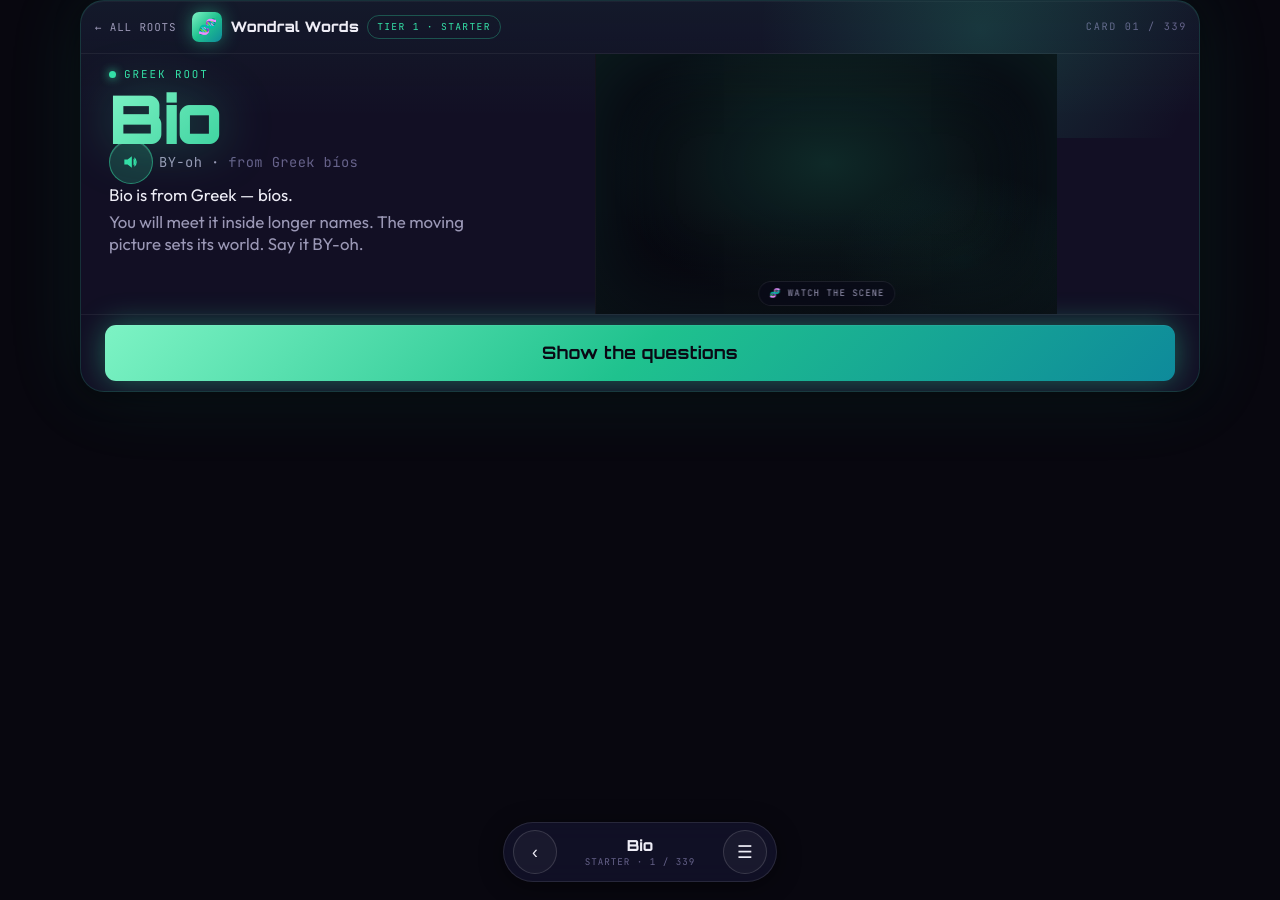
Scenario: what the kid sees on a new card › shows a new root intro before any question and keeps BY-oh
Click the button "Show the questions". click: [640, 353]
box: [105,325,1175,381]
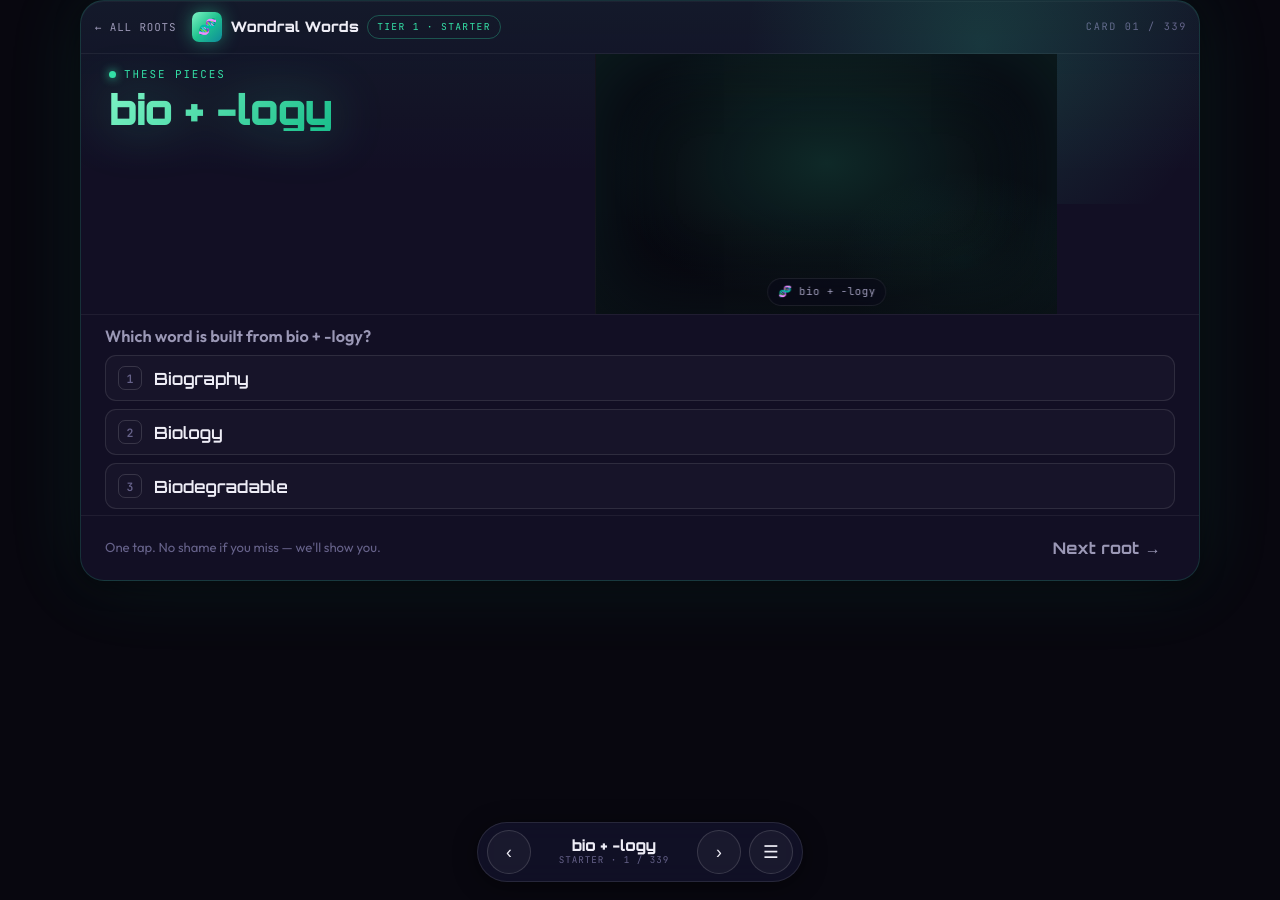
Result: the button with class "ww-recall-opt" showing "1 Biography" is shown at [105,355,1175,401]
Result: the text "Show the questions" is gone
